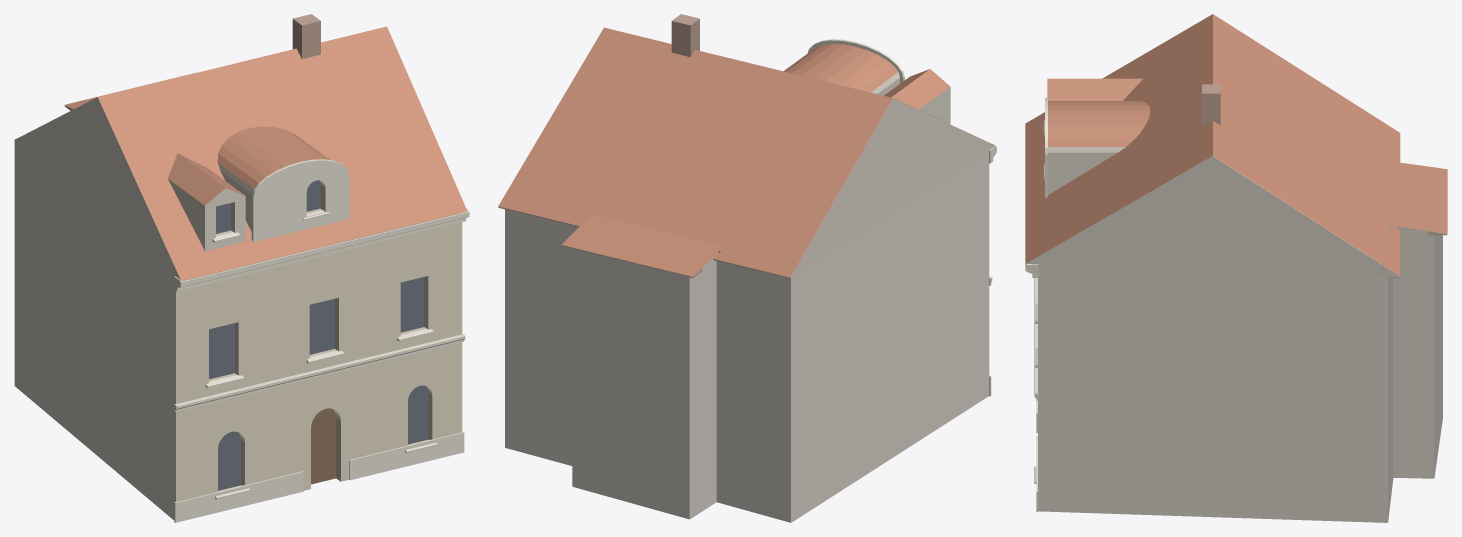
3 renders of one model, left to right at view 1: azimuth 30°, elevation 25°; view 2: azimuth 150°, elevation 25°; view 3: azimuth 270°, elevation 25°, orthographic.
Parts seen in each view (by area): view 1: CP_1186_Masonry, CP_1186_Roof, CP_1186_Gable_L_gable, CP_1186_Dormer_DC_frame, CP_1186_Dormer_DC, CP_1186_Dormer_DL, CP_1186_Cornice_main_0, CP_1186_Cornice_plinth_0, CP_1186_Cornice_string_0, CP_1186_Cornice_plinth_1, CP_1186_Chimney_0; view 2: CP_1186_Masonry, CP_1186_Roof, CP_1186_Gable_L_gable, CP_1186_WingRoof_RearWing, CP_1186_Dormer_DC, CP_1186_Dormer_DL, CP_1186_Chimney_0, CP_1186_Dormer_DC_frame; view 3: CP_1186_Masonry, CP_1186_Roof, CP_1186_Gable_R_gable, CP_1186_Dormer_DC, CP_1186_WingRoof_RearWing, CP_1186_Dormer_DL, CP_1186_Chimney_0.
Boxes of the visible parts, <box> form: CP_1186_Masonry: <box>14,141,462,520</box>; CP_1186_Roof: <box>15,26,467,280</box>; CP_1186_Gable_L_gable: <box>14,97,188,281</box>; CP_1186_Dormer_DC_frame: <box>251,159,349,242</box>; CP_1186_Dormer_DC: <box>217,126,329,231</box>; CP_1186_Dormer_DL: <box>168,153,245,251</box>; CP_1186_Cornice_main_0: <box>174,208,469,291</box>; CP_1186_Cornice_plinth_0: <box>174,471,303,522</box>; CP_1186_Cornice_string_0: <box>174,334,465,411</box>; CP_1186_Cornice_plinth_1: <box>349,432,464,480</box>; CP_1186_Chimney_0: <box>292,14,320,58</box>; CP_1186_Masonry: <box>505,151,989,522</box>; CP_1186_Roof: <box>498,27,994,277</box>; CP_1186_Gable_L_gable: <box>782,98,995,278</box>; CP_1186_WingRoof_RearWing: <box>562,214,722,276</box>; CP_1186_Dormer_DC: <box>784,44,899,95</box>; CP_1186_Dormer_DL: <box>884,69,950,124</box>; CP_1186_Chimney_0: <box>671,14,699,56</box>; CP_1186_Dormer_DC_frame: <box>808,39,904,83</box>; CP_1186_Masonry: <box>1038,230,1442,522</box>; CP_1186_Roof: <box>1025,14,1400,275</box>; CP_1186_Gable_R_gable: <box>1025,156,1399,277</box>; CP_1186_Dormer_DC: <box>1048,101,1150,194</box>; CP_1186_WingRoof_RearWing: <box>1386,161,1447,233</box>; CP_1186_Dormer_DL: <box>1047,78,1142,100</box>; CP_1186_Chimney_0: <box>1202,84,1220,126</box>.
Size of the model in its own units: 11.5 by 13.6 by 13.4.
